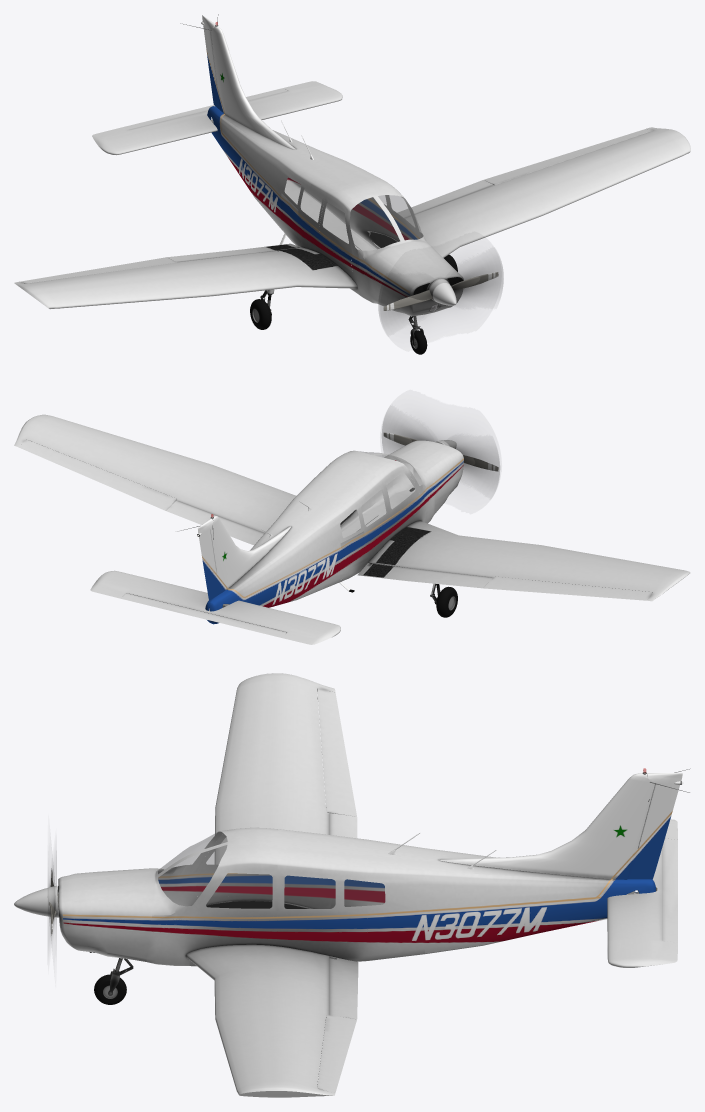
3 renders of one model, top to bottom at view 1: azimuth 30°, elevation 25°; view 2: azimuth 150°, elevation 25°; view 3: azimuth 270°, elevation 25°, orthographic. The views are drawn at different scales.
Parts seen in each view (by area): view 1: body, wing_left, wing_right, elevator, propeller_disc, tail, aileron_left, aileron_right, flap_left, propeller_blades, flap_right, rudder (+2 smaller); view 2: body, wing_right, wing_left, elevator, propeller_disc, aileron_left, aileron_right, flap_right, tail, flap_left, rudder, gear_right (+1 smaller); view 3: body, wing_left, wing_right, elevator, tail, aileron_right, rudder, aileron_left, flap_left, gear_nose, propeller, flap_right.
Boxes of the visible parts, x1=… form: body: x1=214, y1=85, x2=463, y2=316; wing_left: x1=360, y1=127, x2=690, y2=257; wing_right: x1=14, y1=226, x2=356, y2=309; elevator: x1=92, y1=81, x2=342, y2=155; propeller_disc: x1=379, y1=248, x2=503, y2=333; tail: x1=180, y1=14, x2=240, y2=138; aileron_left: x1=484, y1=128, x2=652, y2=184; aileron_right: x1=19, y1=257, x2=176, y2=283; flap_left: x1=397, y1=180, x2=492, y2=217; propeller_blades: x1=383, y1=272, x2=498, y2=310; flap_right: x1=166, y1=243, x2=301, y2=262; rudder: x1=201, y1=15, x2=220, y2=110; body: x1=225, y1=440, x2=463, y2=607; wing_right: x1=368, y1=499, x2=690, y2=601; wing_left: x1=14, y1=414, x2=356, y2=532; elevator: x1=90, y1=570, x2=340, y2=644; propeller_disc: x1=382, y1=407, x2=499, y2=496; aileron_left: x1=19, y1=439, x2=176, y2=510; aileron_right: x1=483, y1=576, x2=652, y2=600; flap_right: x1=357, y1=563, x2=493, y2=588; tail: x1=177, y1=514, x2=238, y2=624; flap_left: x1=166, y1=500, x2=264, y2=545; rudder: x1=197, y1=518, x2=221, y2=600; gear_right: x1=430, y1=583, x2=457, y2=617; body: x1=57, y1=827, x2=620, y2=977; wing_left: x1=187, y1=905, x2=366, y2=1097; wing_right: x1=206, y1=673, x2=335, y2=908; elevator: x1=607, y1=819, x2=677, y2=967; tail: x1=585, y1=768, x2=690, y2=895; aileron_right: x1=317, y1=688, x2=356, y2=816; rudder: x1=627, y1=773, x2=683, y2=879; aileron_left: x1=317, y1=1015, x2=356, y2=1092; flap_left: x1=329, y1=956, x2=358, y2=1019; gear_nose: x1=94, y1=958, x2=133, y2=1004; propeller: x1=14, y1=885, x2=59, y2=917; flap_right: x1=329, y1=813, x2=357, y2=838.
Bounding box in the file's own units: 10.69 × 2.84 × 7.33.
7 materials, 3 textured.
